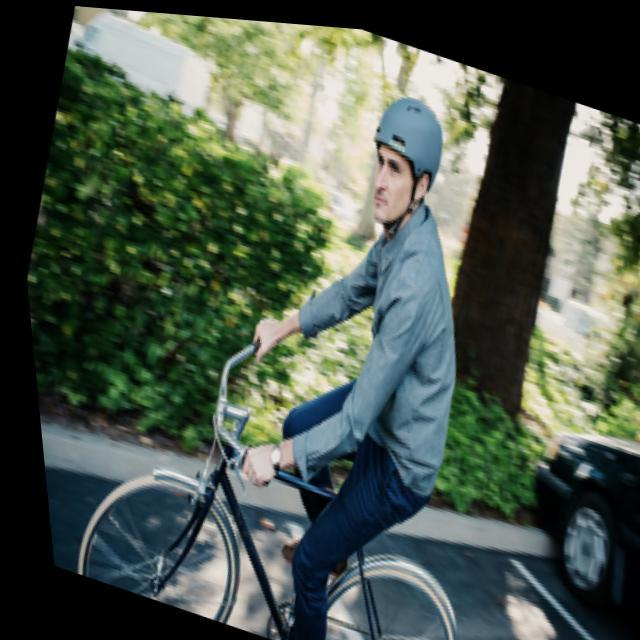Helmet: (362, 93, 456, 235)
